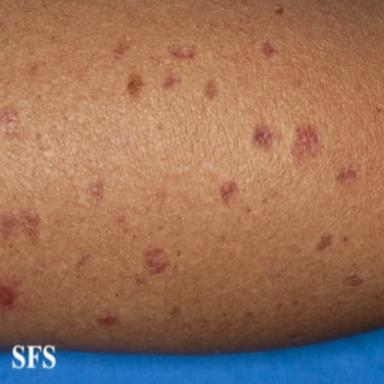Porokeratosis: (291, 125, 319, 165), (143, 247, 169, 275), (0, 108, 21, 137), (21, 211, 40, 238), (336, 163, 359, 184), (253, 124, 272, 148), (0, 282, 18, 307), (0, 212, 17, 237), (86, 180, 103, 204), (220, 180, 237, 203), (113, 39, 131, 58), (170, 46, 196, 59), (316, 233, 333, 252), (163, 73, 181, 89), (97, 313, 119, 326), (345, 272, 364, 287), (204, 79, 217, 99), (262, 42, 275, 57)
